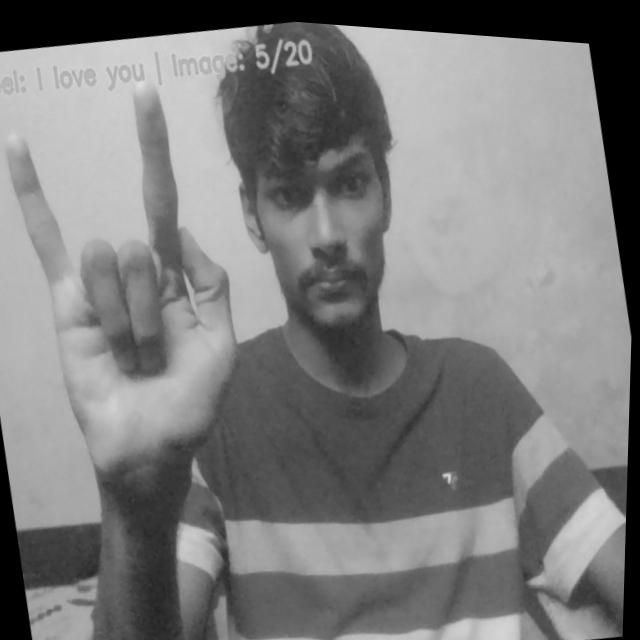I love you: (0, 63, 275, 485)
